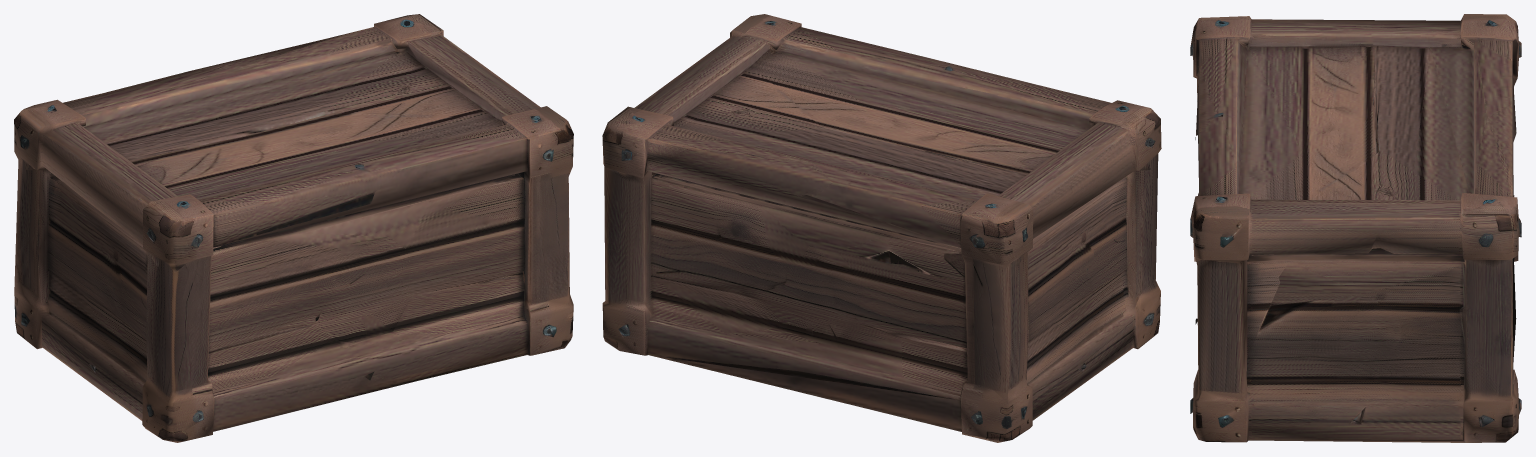
The model's file is crate-verify.glb.
The picture shows the model from 3 angles, left to right: view 1: azimuth 30°, elevation 25°; view 2: azimuth 150°, elevation 25°; view 3: azimuth 270°, elevation 25°; orthographic projection. The views are drawn at different scales.
Size of the model in its own units: 2 by 1.06 by 1.35.
1 material, 1 textured.
